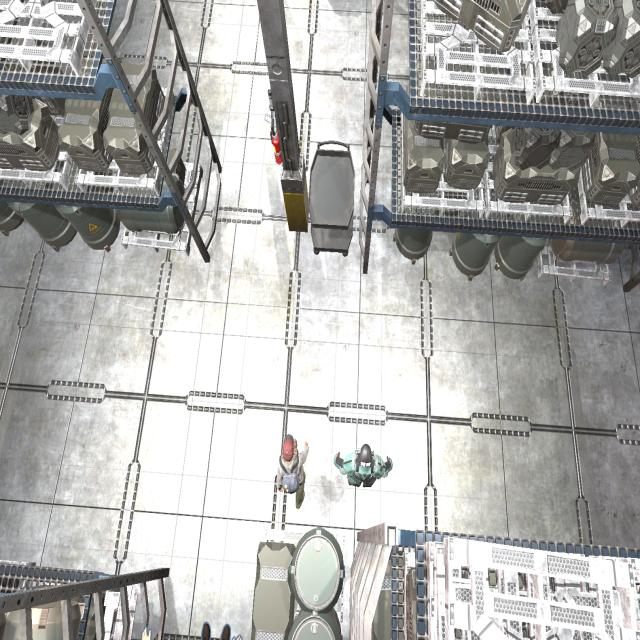thiefs: (274, 431, 311, 512)
